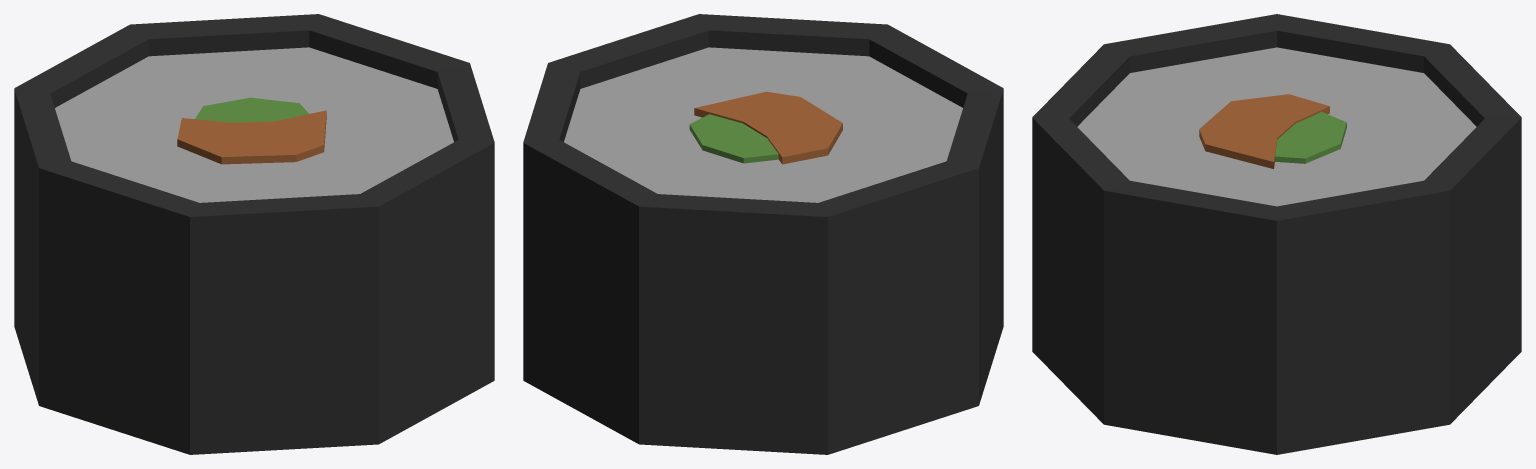
The model's file is Sushi_Roll2.glb.
3 renders of one model, left to right at view 1: azimuth 30°, elevation 25°; view 2: azimuth 150°, elevation 25°; view 3: azimuth 270°, elevation 25°, orthographic.
Parts seen in each view (by area): view 1: DarkGrey, White, Orange, LightGreen; view 2: DarkGrey, White, Orange, LightGreen; view 3: DarkGrey, White, Orange, LightGreen.
Boxes of the visible parts, box(x1,y1,x2,y2) form: DarkGrey: box(14, 14, 494, 454); White: box(55, 47, 453, 202); Orange: box(177, 110, 326, 164); LightGreen: box(195, 97, 308, 122); DarkGrey: box(523, 14, 1003, 454); White: box(564, 47, 962, 202); Orange: box(694, 91, 842, 164); LightGreen: box(689, 114, 778, 163); DarkGrey: box(1032, 14, 1521, 454); White: box(1077, 47, 1476, 206); Orange: box(1199, 94, 1329, 168); LightGreen: box(1275, 112, 1346, 163).
Size of the model in its own units: 0.2926 by 0.1543 by 0.2926.
